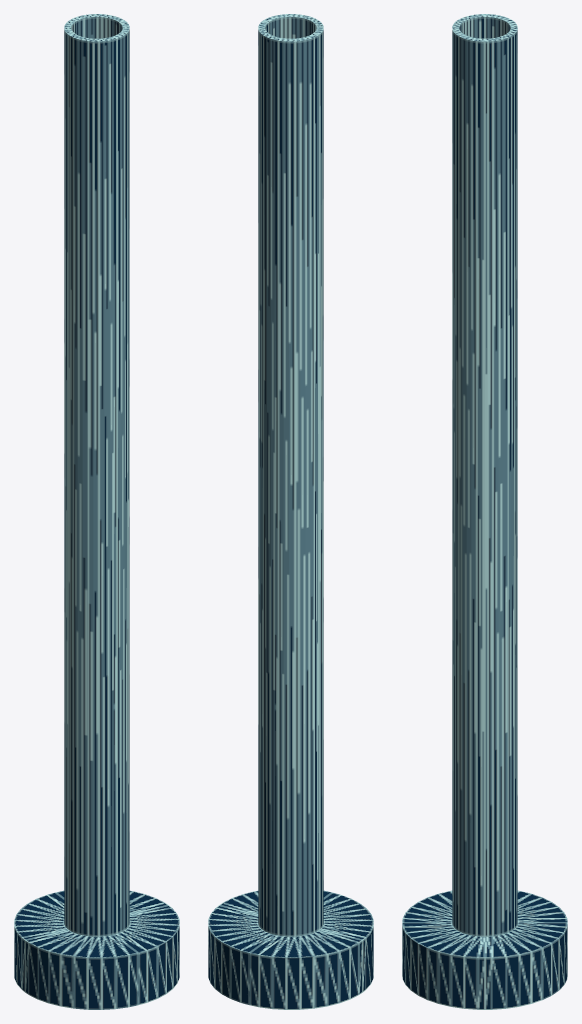
File: Extra-Ejector4-M.glb
3 renders of one model, left to right at view 1: azimuth 30°, elevation 25°; view 2: azimuth 150°, elevation 25°; view 3: azimuth 270°, elevation 25°, orthographic.
Visible parts, largest first — view 1: ejector4.002, ejector4.001; view 2: ejector4.002, ejector4.001; view 3: ejector4.001, ejector4.002.
Part boxes in pixels (x1,y1,x2,y2): ejector4.002: (14, 16, 138, 1009); ejector4.001: (56, 14, 179, 1004); ejector4.002: (249, 16, 373, 1009); ejector4.001: (208, 14, 331, 1004); ejector4.001: (402, 28, 567, 1009); ejector4.002: (402, 14, 567, 922).
Bounding box in the file's own units: 0.4282 × 2.7 × 0.427.
Materials: 1 (1 with a texture image).
